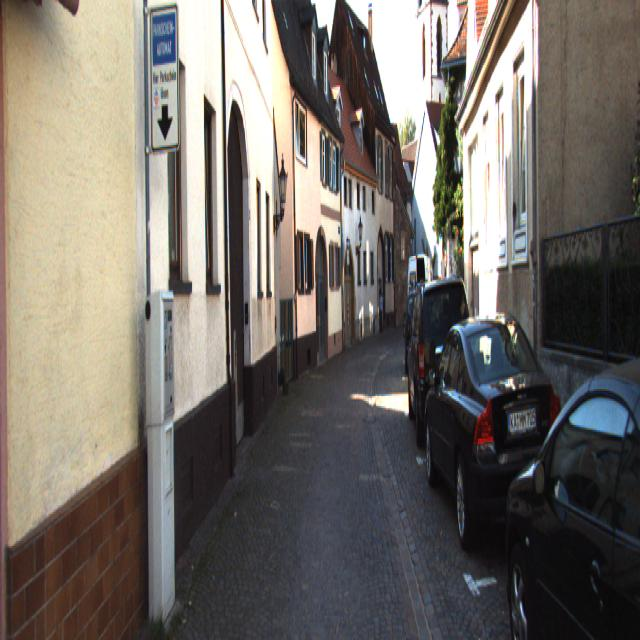Car: (502, 331, 640, 638), (423, 303, 563, 578), (405, 266, 475, 451), (407, 251, 438, 343), (404, 288, 431, 374)
